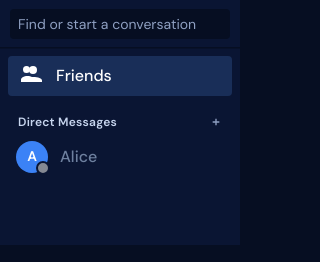
Test: DMList › shows start conversation option when username is not in DM list
The image size is (320, 262).
Type "NewUser" into the field with placeholder "Find or start a conversation" at (120, 24), box [10,8,230,38]
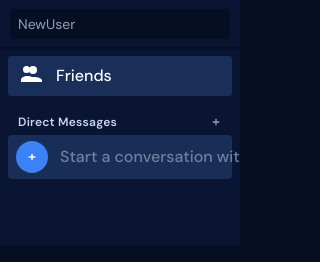
expect the button with aria-label "Start a conversation with NewUser" is shown: met, box [8,134,232,178]
